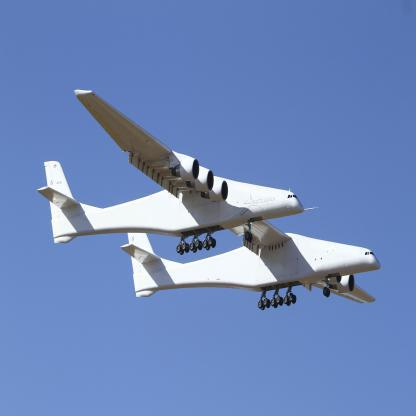CIV_Plane: (31, 82, 381, 335)
